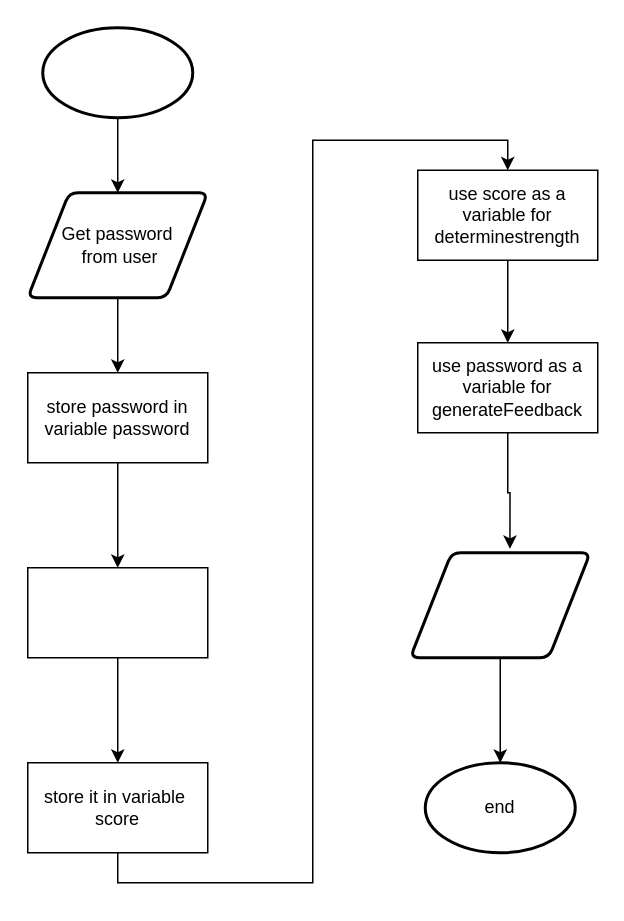
Image size: 624x921. Some labels were removed from this diagram. Here are the shapes that lost their labels. From the top down, the centre of each, then its label:
(117,72): Start
(117,612): use evaluate criteria for score
(499,604): display all the info gathered formatted using printf
